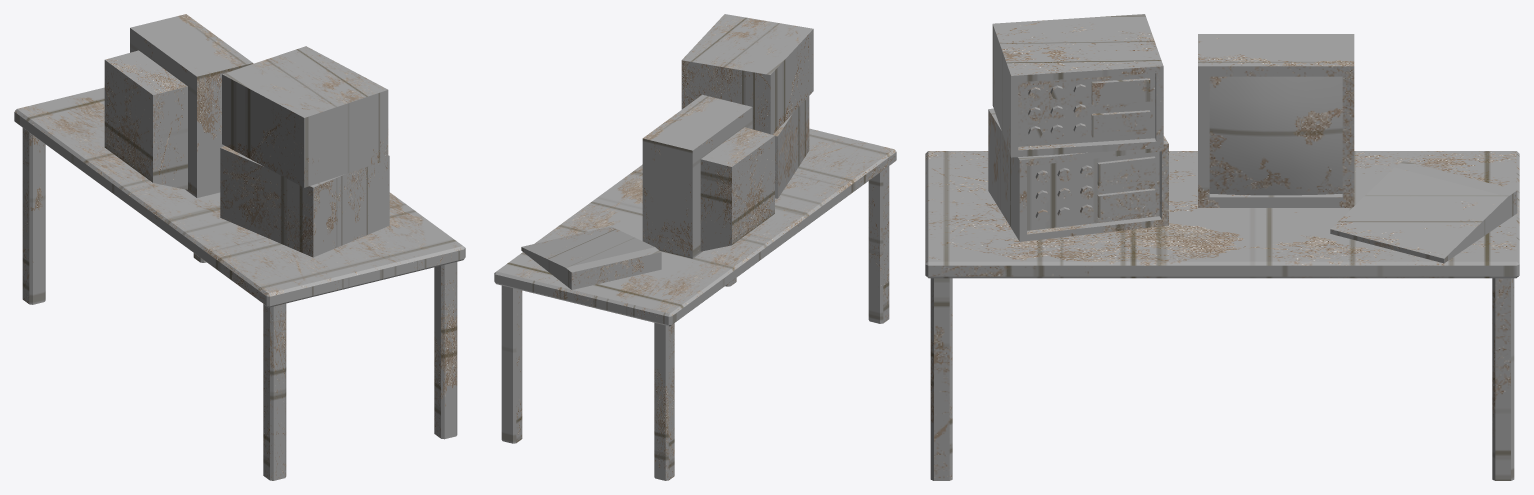
The model's file is Radio_Table.fbx.
The picture shows the model from 3 angles, left to right: view 1: azimuth 30°, elevation 25°; view 2: azimuth 150°, elevation 25°; view 3: azimuth 270°, elevation 25°; orthographic projection. The views are drawn at different scales.
Visible parts, largest first — view 1: Cube.202; view 2: Cube.202; view 3: Cube.202.
Part boxes in pixels (bbox=[...]): Cube.202: bbox=[14, 14, 465, 480]; Cube.202: bbox=[494, 14, 896, 480]; Cube.202: bbox=[925, 14, 1519, 480].
Bounding box in the file's own units: 75.56 × 119 × 167.
